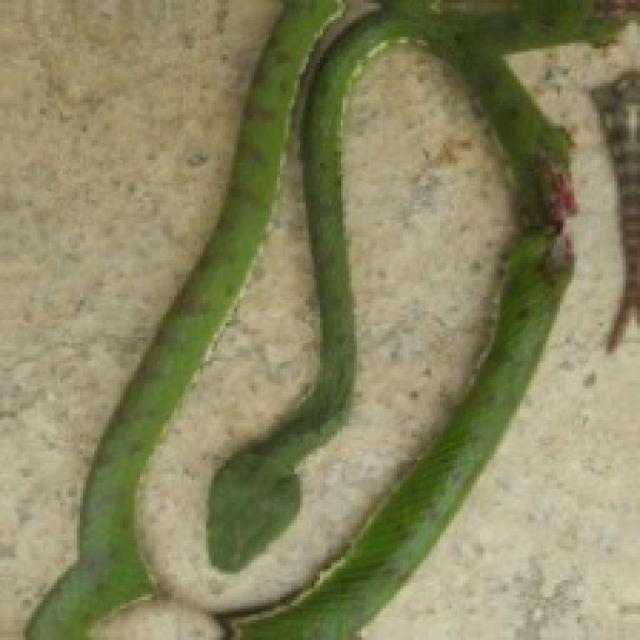philippine pitviper: (217, 0, 583, 637), (29, 0, 331, 637)
